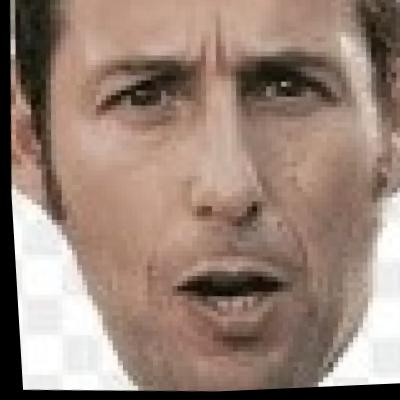surprise: (37, 0, 395, 398)
